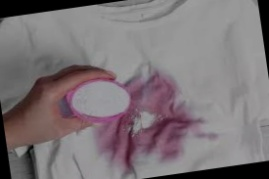ink: (140, 120, 193, 162), (130, 75, 181, 111), (97, 127, 134, 173)
